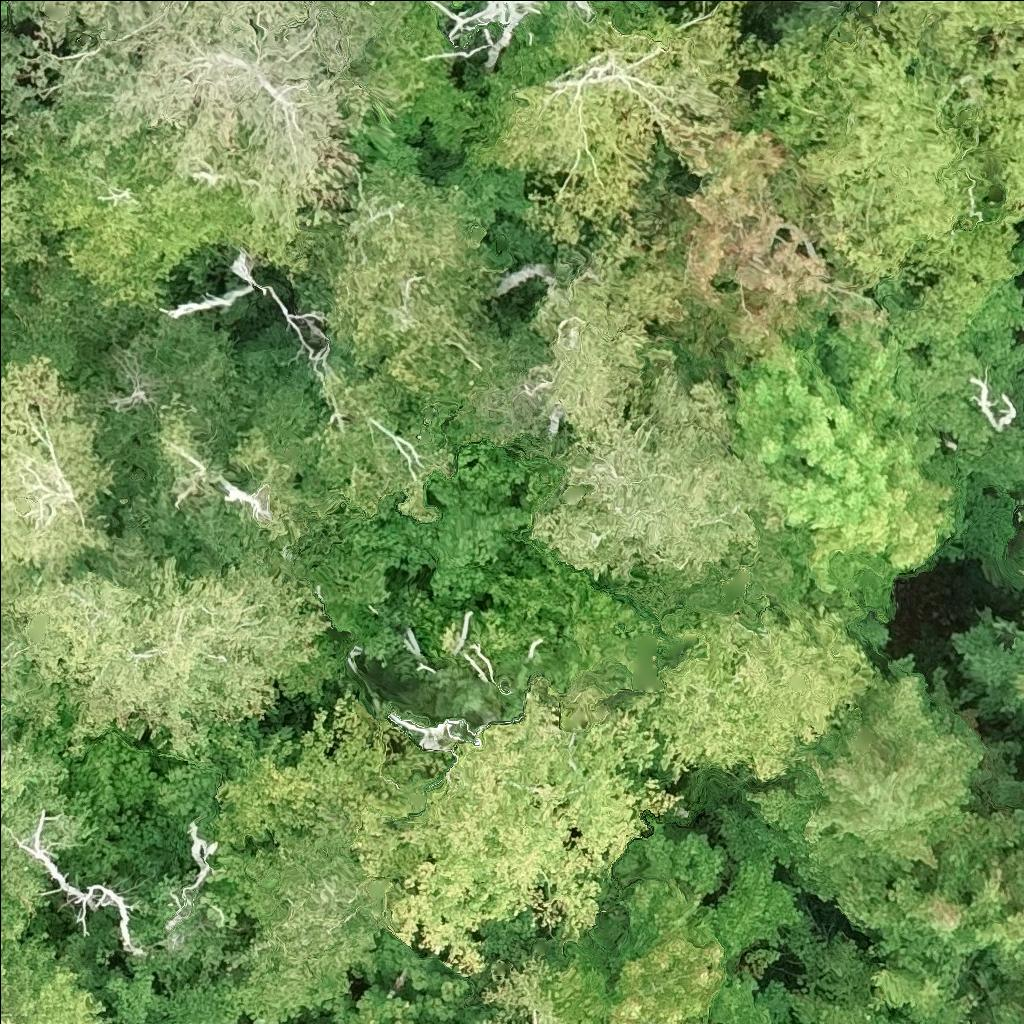crown: (378, 692, 686, 975), (738, 0, 1023, 303), (75, 10, 383, 235), (724, 325, 959, 618), (0, 561, 329, 761), (8, 100, 316, 306), (494, 0, 747, 246), (743, 672, 987, 901), (527, 367, 788, 573), (543, 823, 795, 1023), (679, 134, 859, 375), (651, 603, 879, 783), (214, 696, 447, 872), (838, 808, 1023, 1023), (326, 168, 497, 394), (216, 817, 398, 1022), (530, 225, 687, 455), (851, 289, 1020, 454), (296, 358, 453, 525), (0, 361, 119, 576), (152, 400, 313, 553), (7, 804, 158, 956), (392, 453, 533, 601), (16, 0, 316, 48), (0, 903, 102, 1023), (0, 638, 62, 826), (65, 727, 156, 832), (422, 0, 545, 69), (0, 167, 50, 306), (320, 983, 464, 1023), (485, 961, 572, 1023), (796, 994, 920, 1023), (992, 808, 1023, 906), (963, 1001, 1023, 1023), (600, 0, 652, 12), (570, 0, 594, 18), (450, 0, 471, 7), (1022, 568, 1023, 578), (1022, 997, 1023, 1005)
